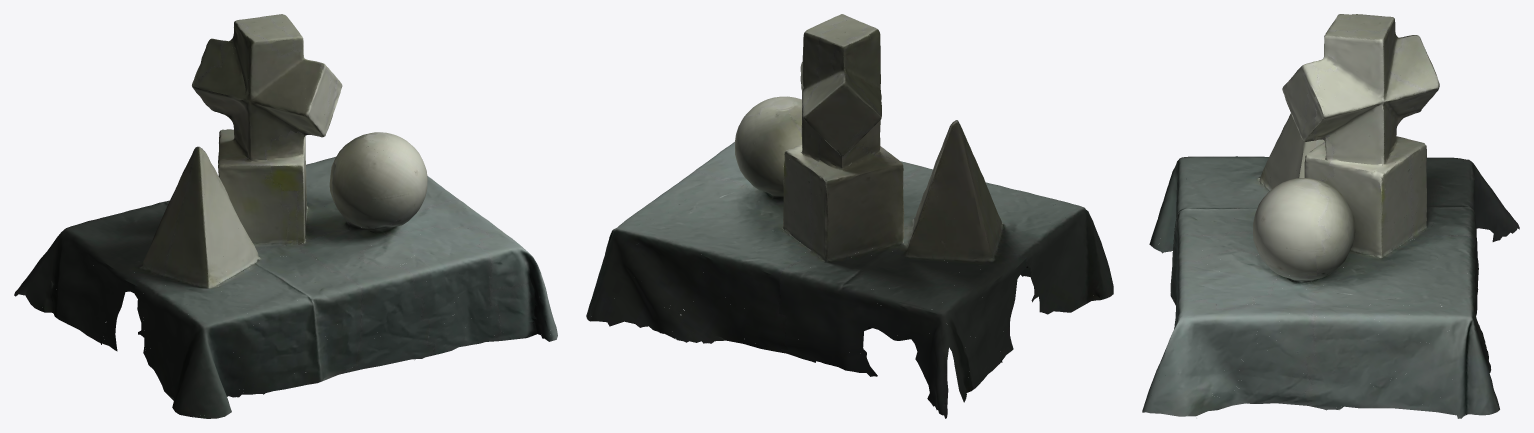
File: 静物_几何体_球体锥体组合03_opt.glb
3 renders of one model, left to right at view 1: azimuth 30°, elevation 25°; view 2: azimuth 150°, elevation 25°; view 3: azimuth 270°, elevation 25°, orthographic. The views are drawn at different scales.
Parts seen in each view (by area): view 1: defaultMat, defaultMat_1; view 2: defaultMat, defaultMat_1; view 3: defaultMat, defaultMat_1.
Boxes of the visible parts, x1,y1,x2,y2 form: defaultMat: [14, 14, 557, 418]; defaultMat_1: [42, 15, 553, 416]; defaultMat: [586, 14, 1113, 418]; defaultMat_1: [591, 17, 1111, 406]; defaultMat: [1142, 14, 1519, 418]; defaultMat_1: [1149, 15, 1501, 415].
Bounding box in the file's own units: 0.4168 × 0.3 × 0.3473.
1 material, 1 textured.
